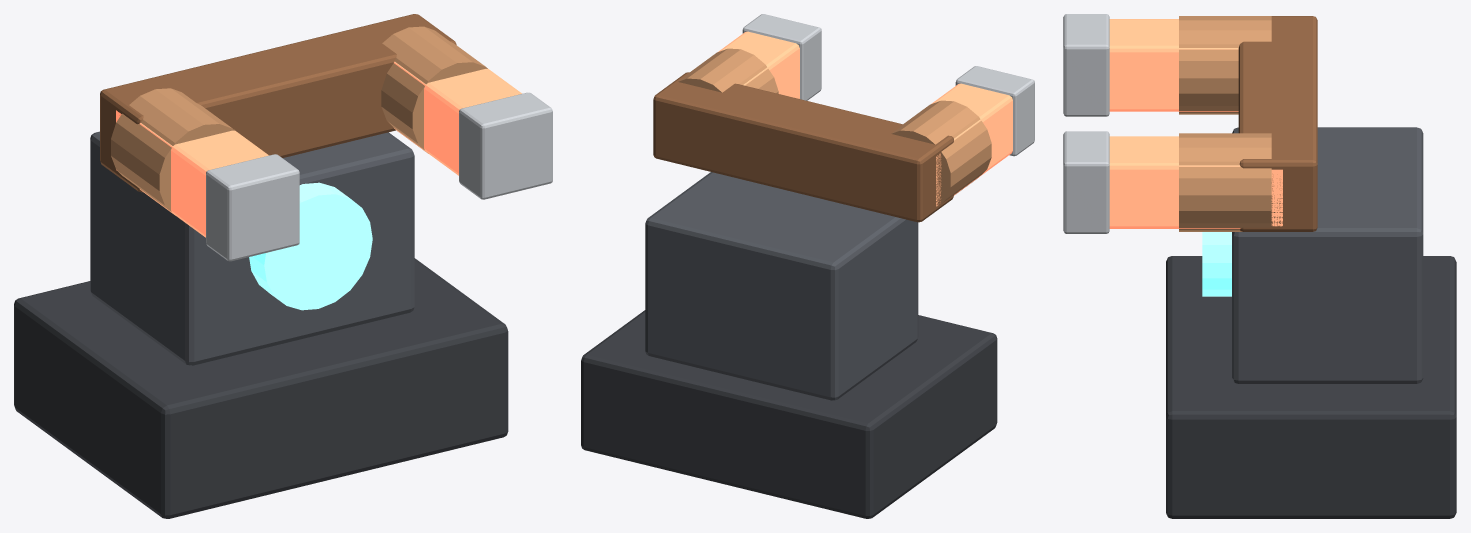
Rendered from enemy_magnete_industriale.glb.
3 views of the same model, side by side, from view 1: azimuth 30°, elevation 25°; view 2: azimuth 150°, elevation 25°; view 3: azimuth 270°, elevation 25° (orthographic). The views are drawn at different scales.
Parts seen in each view (by area): view 1: CrawlerBase, GeneratorBlock, MagnetYoke, ArcCore, MagnetTip_0.42, MagnetTip_-0.42, CopperCoil_-0.42, CopperCoil_0.42, MagnetArm_-0.42, MagnetArm_0.42; view 2: CrawlerBase, GeneratorBlock, MagnetYoke, CopperCoil_-0.42, MagnetArm_-0.42, CopperCoil_0.42, MagnetTip_-0.42, MagnetTip_0.42, MagnetArm_0.42; view 3: CrawlerBase, GeneratorBlock, MagnetYoke, CopperCoil_0.42, MagnetArm_0.42, CopperCoil_-0.42, MagnetArm_-0.42, MagnetTip_0.42, MagnetTip_-0.42, ArcCore.
Boxes of the visible parts, x1,y1,x2,y2 form: CrawlerBase: [14, 258, 508, 518]; GeneratorBlock: [90, 131, 414, 365]; MagnetYoke: [100, 14, 456, 192]; ArcCore: [249, 182, 372, 310]; MagnetTip_0.42: [459, 92, 552, 199]; MagnetTip_-0.42: [206, 154, 299, 261]; CopperCoil_-0.42: [111, 88, 234, 214]; CopperCoil_0.42: [381, 26, 487, 153]; MagnetArm_-0.42: [116, 110, 268, 237]; MagnetArm_0.42: [394, 61, 521, 175]; CrawlerBase: [581, 310, 997, 518]; GeneratorBlock: [645, 172, 918, 400]; MagnetYoke: [653, 72, 953, 222]; CopperCoil_-0.42: [891, 100, 991, 203]; MagnetArm_-0.42: [931, 83, 1012, 206]; CopperCoil_0.42: [678, 48, 778, 93]; MagnetTip_-0.42: [955, 66, 1034, 156]; MagnetTip_0.42: [742, 14, 821, 100]; MagnetArm_0.42: [718, 31, 799, 98]; CrawlerBase: [1166, 256, 1456, 518]; GeneratorBlock: [1232, 127, 1423, 383]; MagnetYoke: [1238, 16, 1317, 231]; CopperCoil_0.42: [1179, 133, 1271, 231]; MagnetArm_0.42: [1109, 136, 1282, 228]; CopperCoil_-0.42: [1179, 16, 1271, 114]; MagnetArm_-0.42: [1109, 19, 1238, 111]; MagnetTip_0.42: [1063, 131, 1109, 233]; MagnetTip_-0.42: [1063, 14, 1109, 116]; ArcCore: [1202, 232, 1231, 296].
Bounding box in the file's own units: 1.15 × 1.21 × 1.19.
